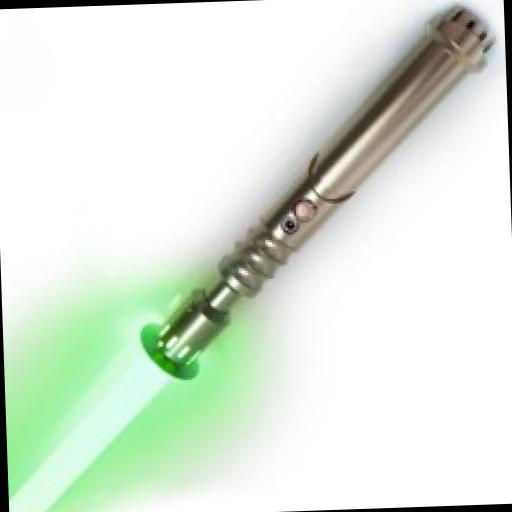lightsaber: (0, 2, 509, 512)
